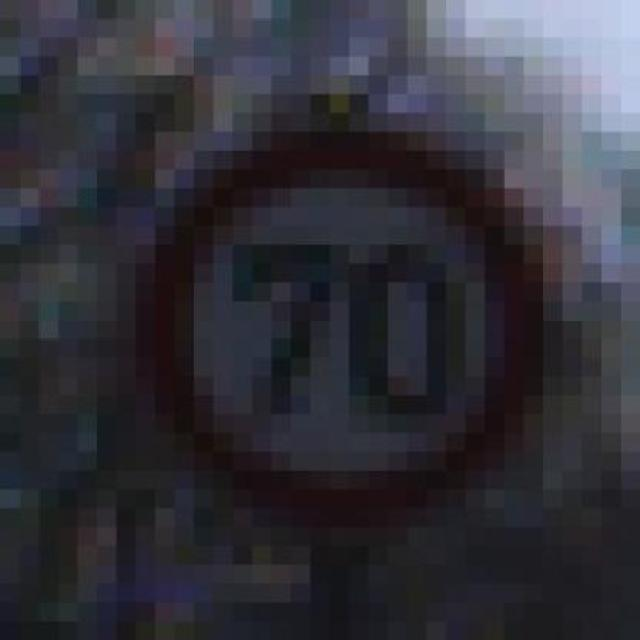forb_speed_over_70: (154, 130, 541, 516)
